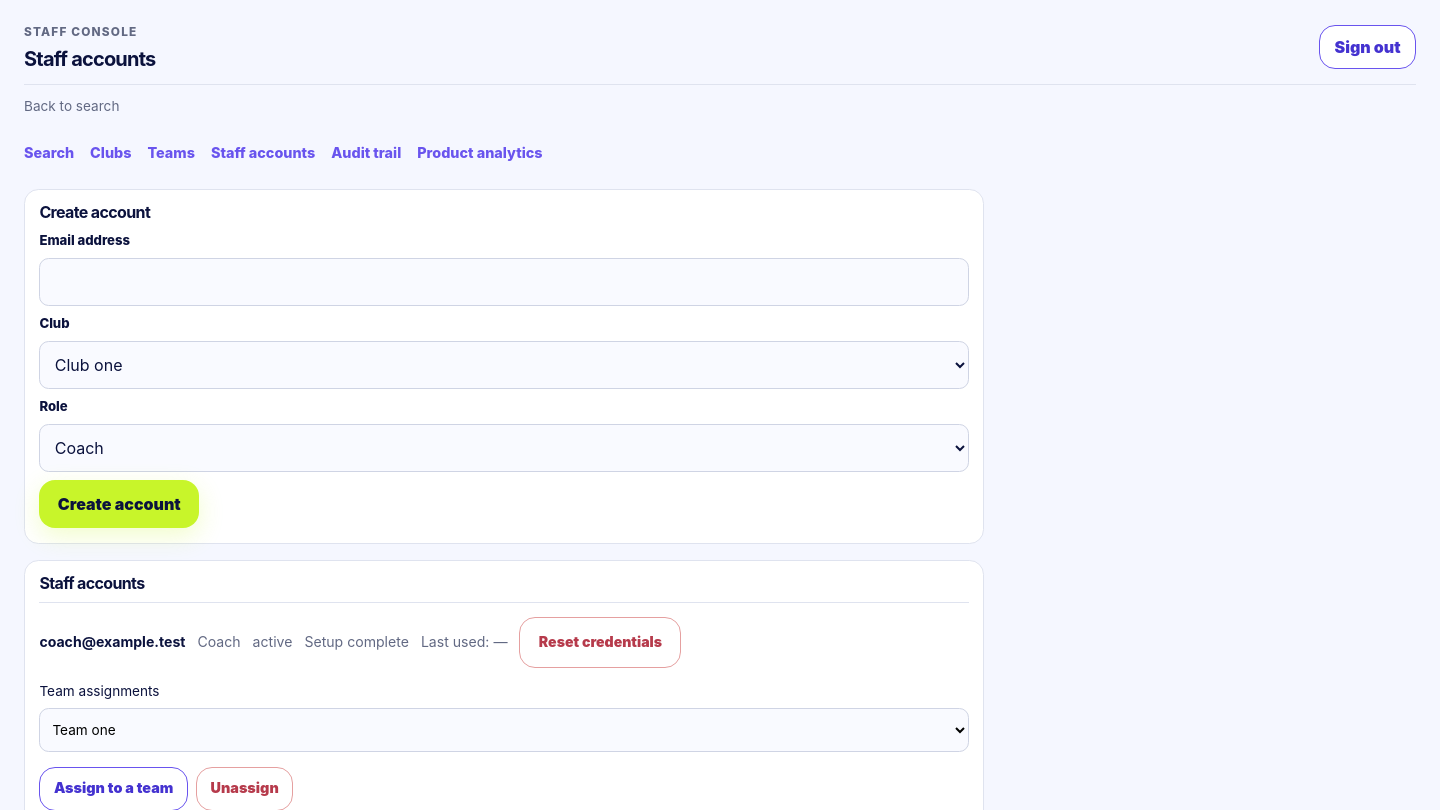
staff account step-up intent › replays the original account creation after server-confirmed dev password
Type "new@example.test" into the field labelled "Email address" at (504, 282), box [39, 258, 969, 306]
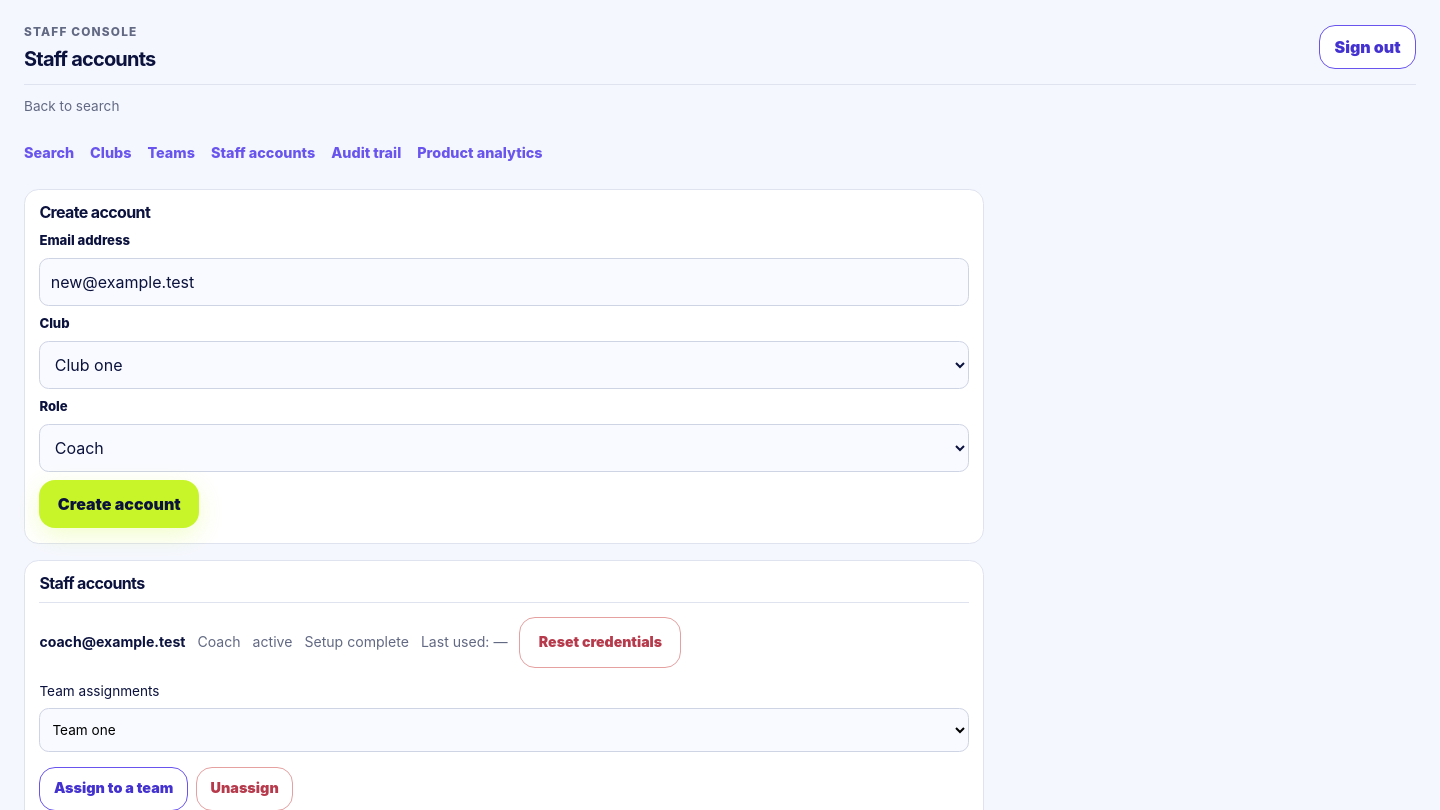
Submit the form from the button "Create account", box [39, 480, 199, 528]
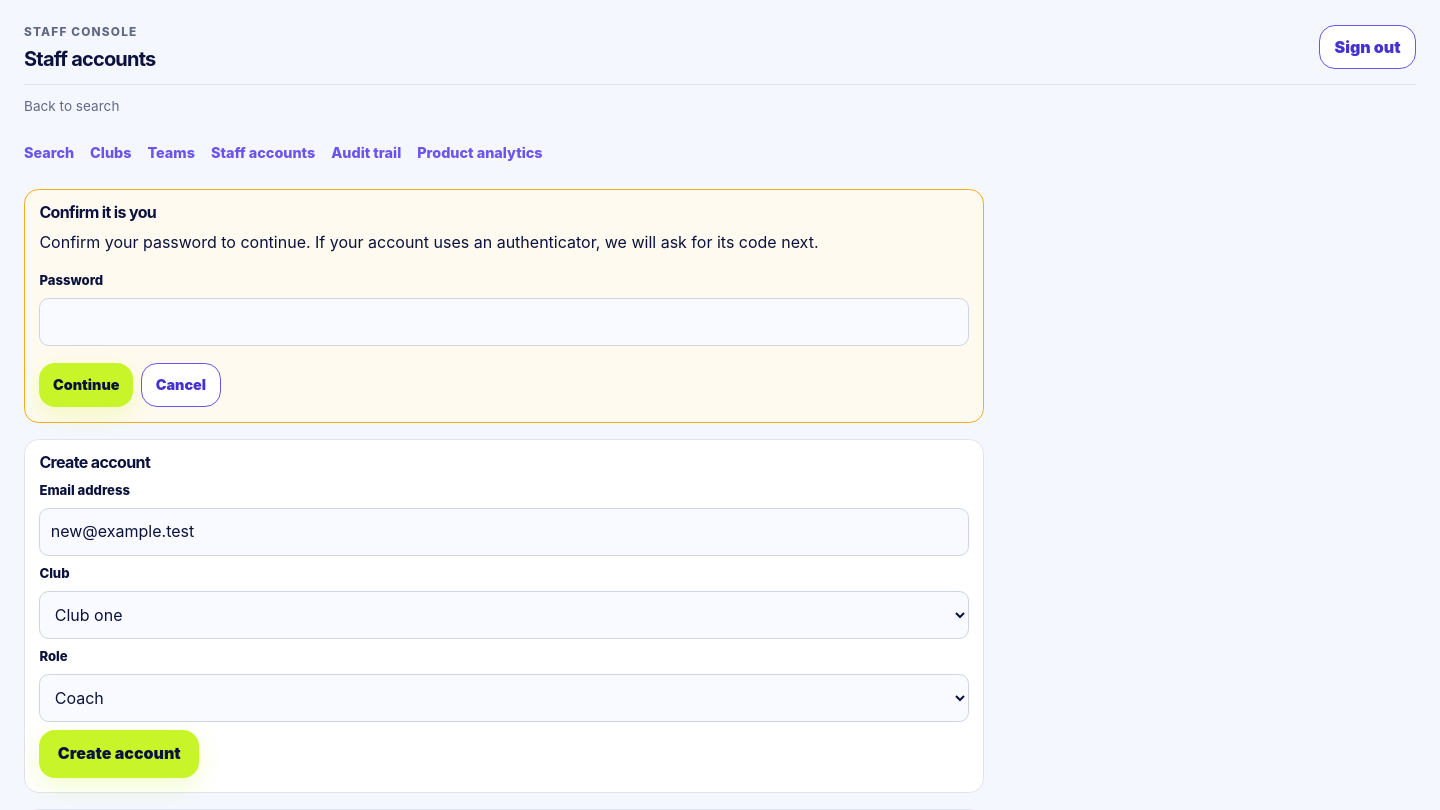
Type "local-test-password" into the password field labelled "Password" at (504, 322), box [39, 298, 969, 346]
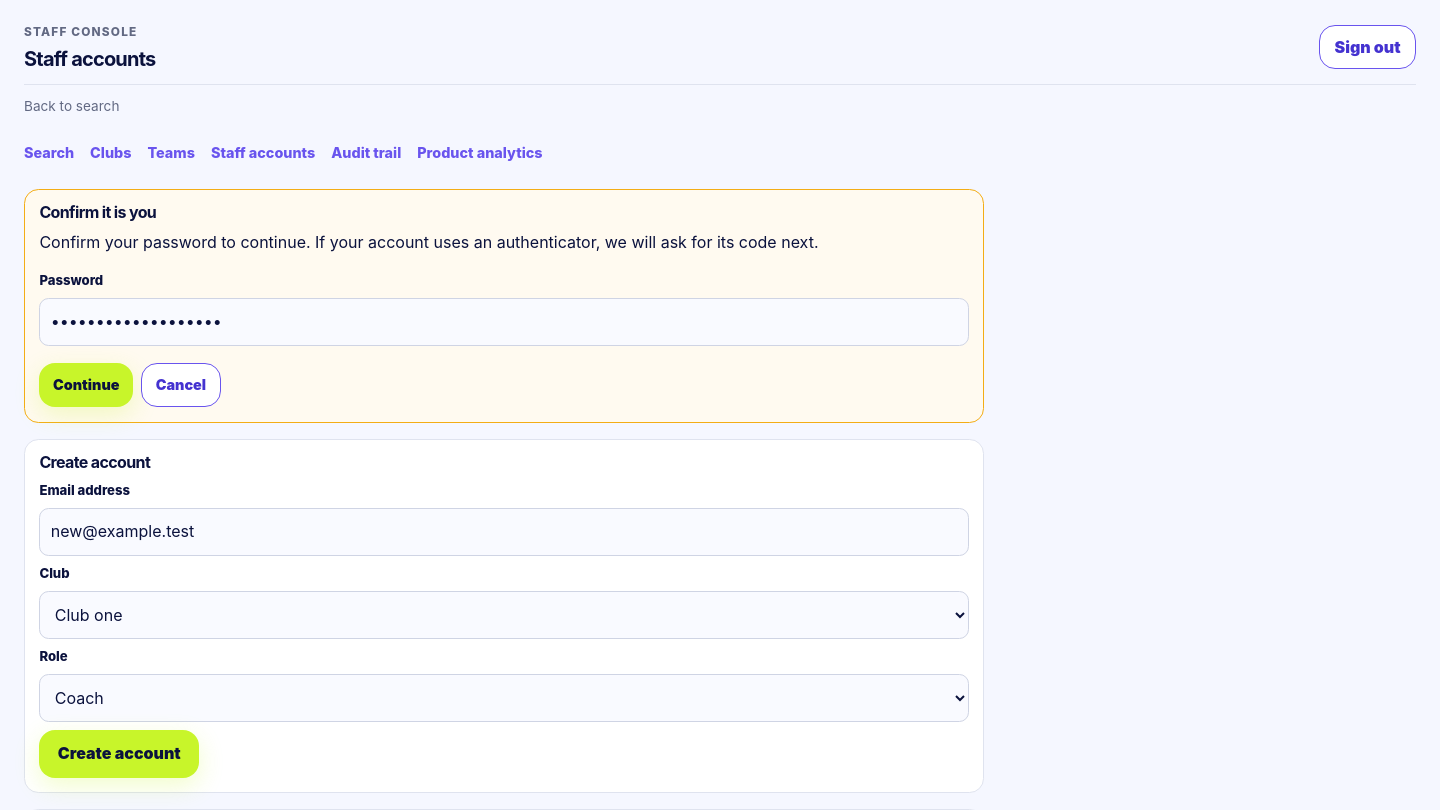
Submit the form from the button "Continue", box [39, 363, 133, 407]
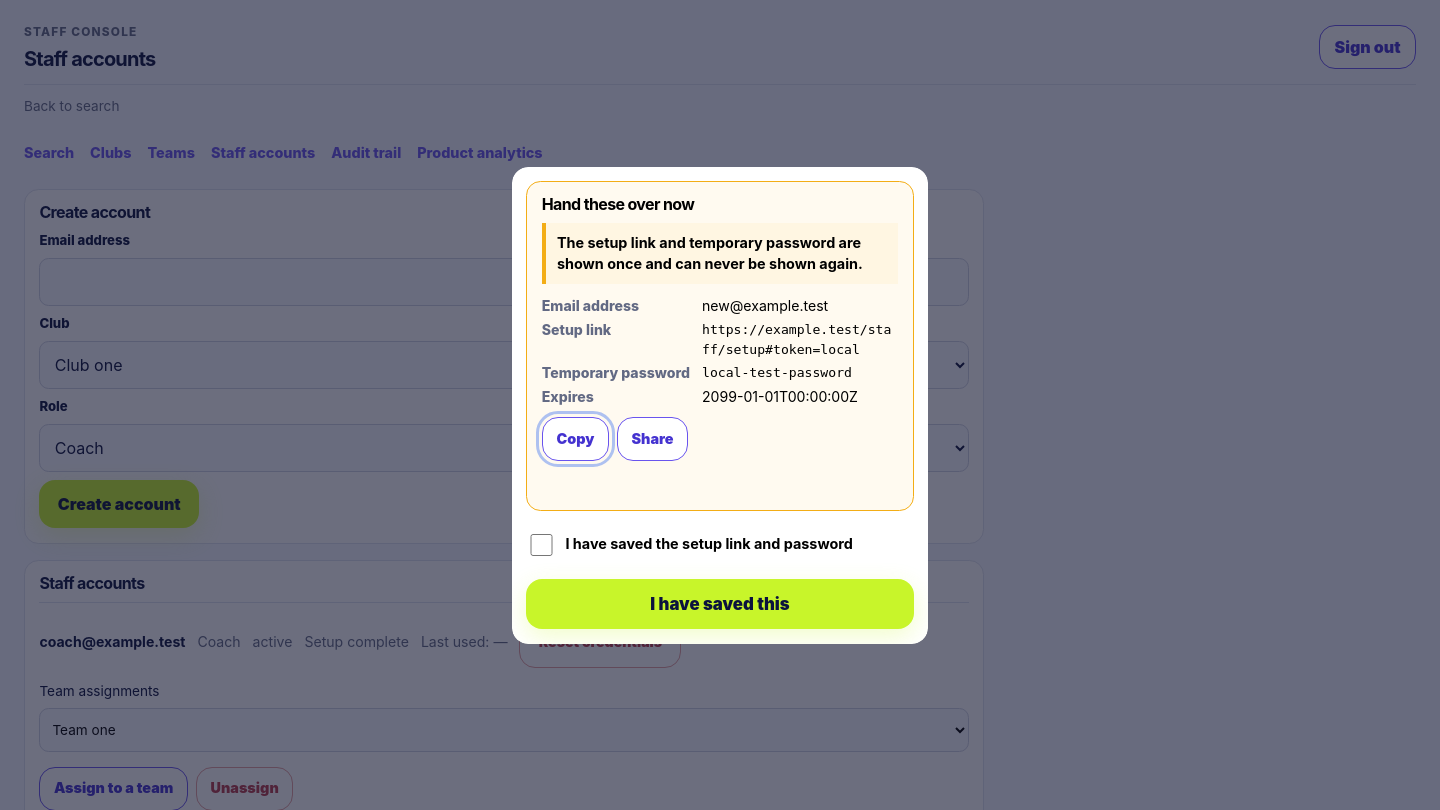
expect the dialog is shown: met, box [512, 166, 928, 644]
